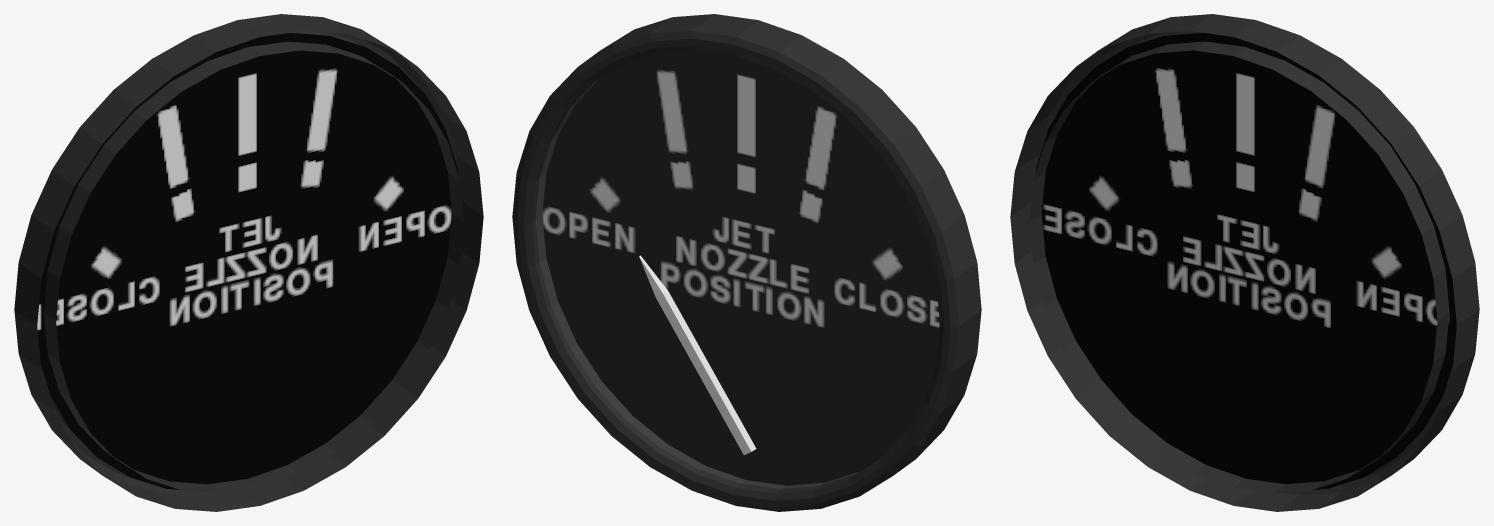
File: exhaust.obj
3 views of the same model, side by side, from view 1: azimuth 30°, elevation 25°; view 2: azimuth 150°, elevation 25°; view 3: azimuth 330°, elevation 25° (orthographic).
Visible parts, largest first — view 1: face, fond; view 2: face, vitre, fond, needle; view 3: face, fond.
Boxes of the visible parts, x1,y1,x2,y2 form: face: [37, 33, 458, 489]; fond: [14, 14, 483, 511]; face: [542, 50, 939, 485]; vitre: [536, 51, 938, 488]; fond: [512, 14, 981, 511]; needle: [639, 255, 756, 455]; face: [1036, 33, 1456, 489]; fond: [1010, 14, 1479, 511].
Bounding box in the file's own units: 0.0531 × 0.0533 × 0.00507.
2 materials, 1 textured.
